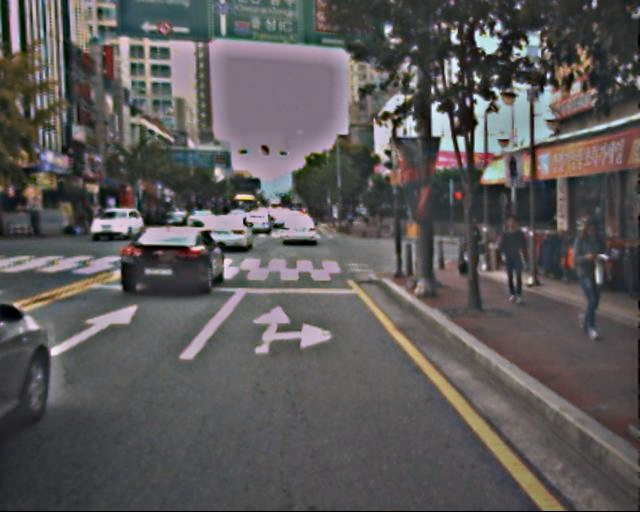person: (561, 223, 616, 341), (496, 217, 533, 307), (461, 222, 488, 284)
